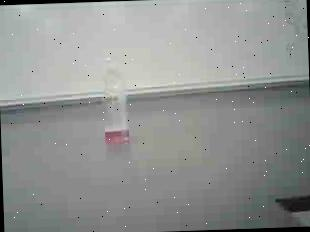hazard: (97, 54, 138, 144)
